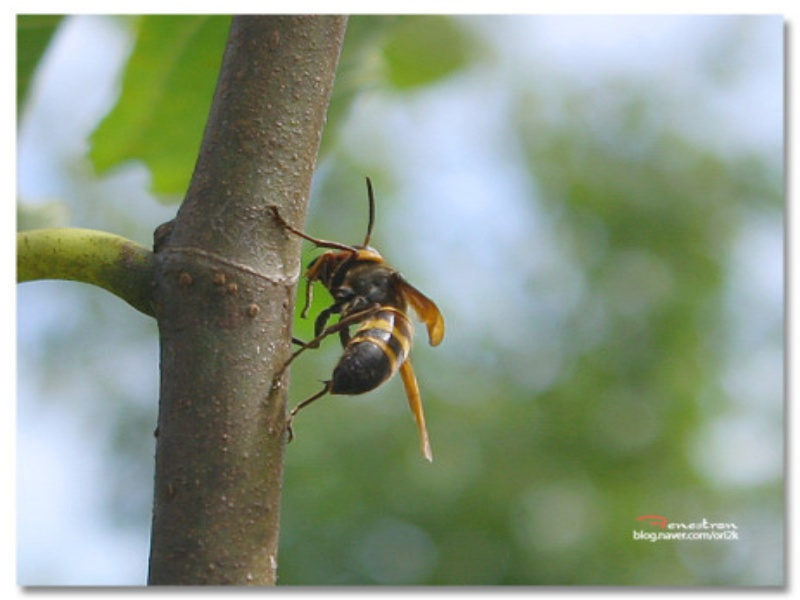asian_giant_hornet: (270, 168, 456, 466)
